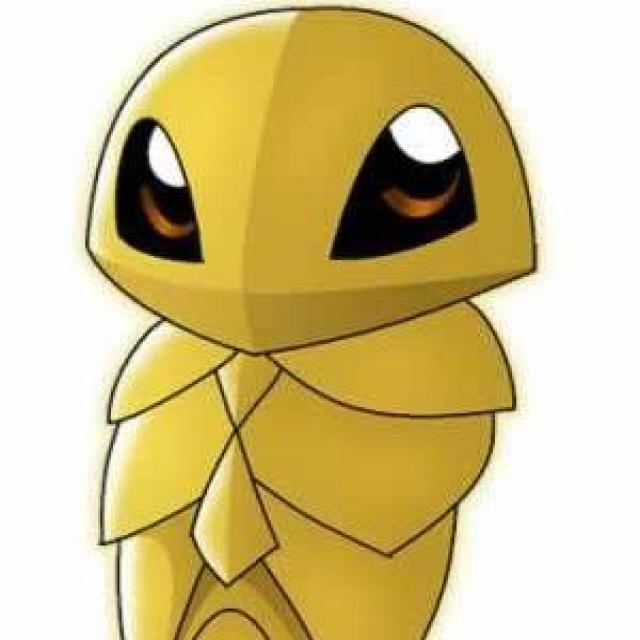Kakuna: (66, 5, 547, 640)
